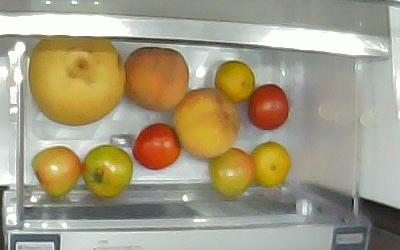peach: (173, 88, 241, 159), (124, 47, 189, 113)
pear: (27, 37, 124, 127)
tangerine: (250, 142, 289, 186), (214, 60, 254, 102)
tomato: (81, 145, 132, 197), (31, 144, 81, 195), (132, 122, 179, 170), (209, 148, 253, 197), (248, 84, 289, 130)
